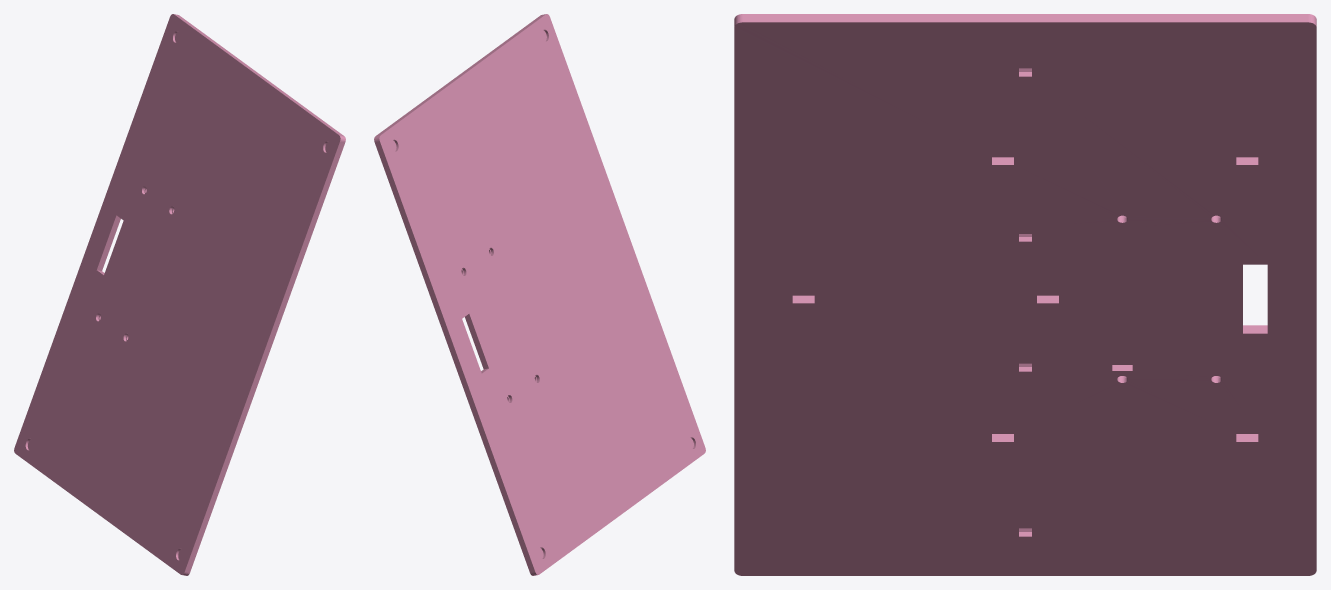
File: center.glb
The picture shows the model from 3 angles, left to right: view 1: azimuth 30°, elevation 25°; view 2: azimuth 150°, elevation 25°; view 3: azimuth 270°, elevation 25°; orthographic projection. The views are drawn at different scales.
Visible parts, largest first — view 1: Mesh_Mesh_head_geo.001_lambert2SG.001; view 2: Mesh_Mesh_head_geo.001_lambert2SG.001; view 3: Mesh_Mesh_head_geo.001_lambert2SG.001.
Part boxes in pixels (x1,y1,x2,y2): Mesh_Mesh_head_geo.001_lambert2SG.001: (14,14,345,575); Mesh_Mesh_head_geo.001_lambert2SG.001: (374,14,705,575); Mesh_Mesh_head_geo.001_lambert2SG.001: (734,14,1316,575).
Size of the model in its own units: 79.31 by 186 by 143.
